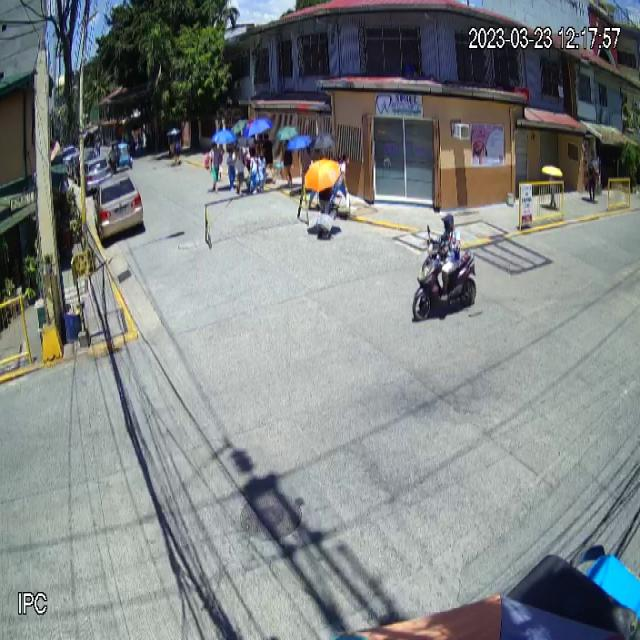Car: (94, 172, 144, 241)
Motorcycle: (412, 224, 476, 320)
